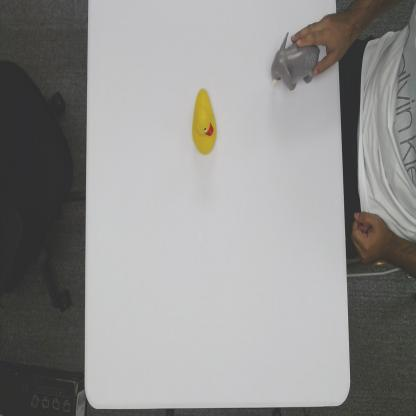Duck: (192, 85, 219, 156)
Elephant: (268, 31, 321, 92)
Hand: (294, 13, 343, 78)
